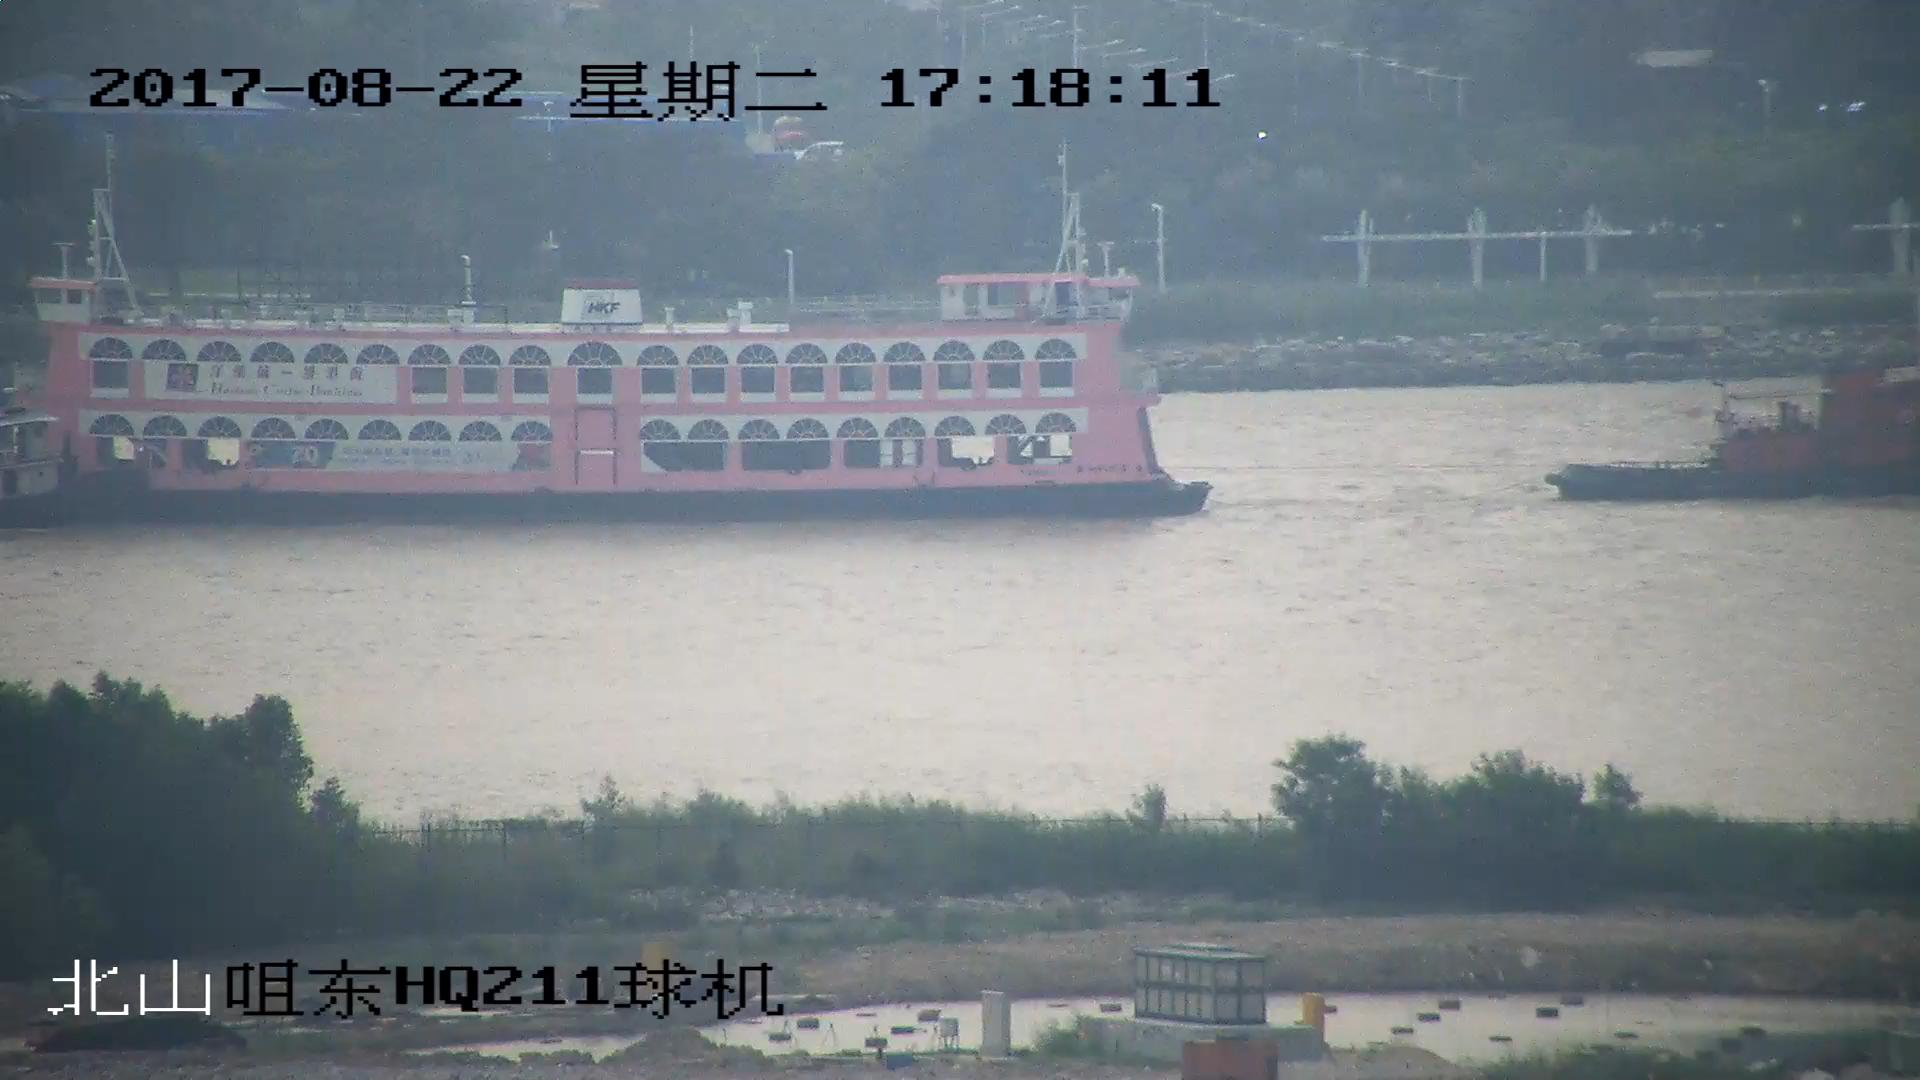fishing boat: (1546, 369, 1920, 499)
passenger ship: (1, 144, 1212, 523)
